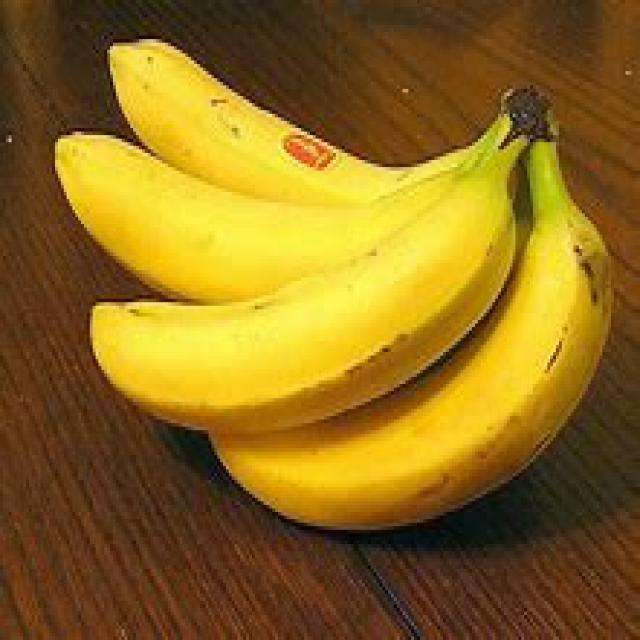banana: (33, 0, 640, 619)
